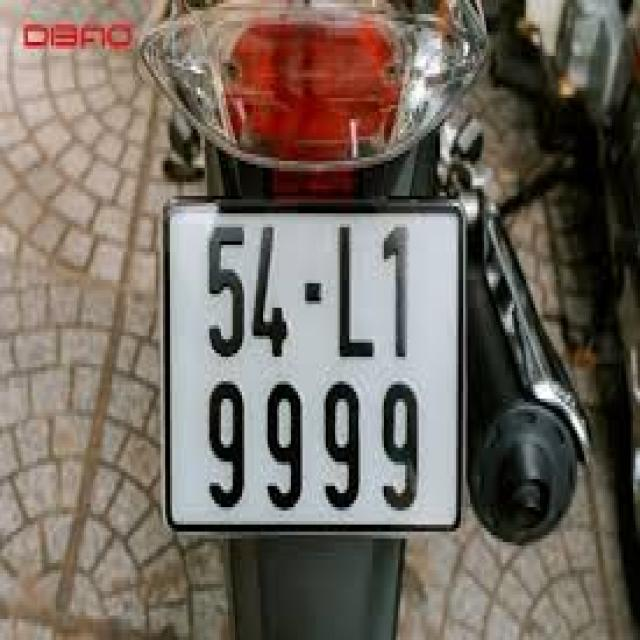a: (165, 195, 462, 534), (163, 201, 463, 533)
bien so: (162, 207, 461, 536)
